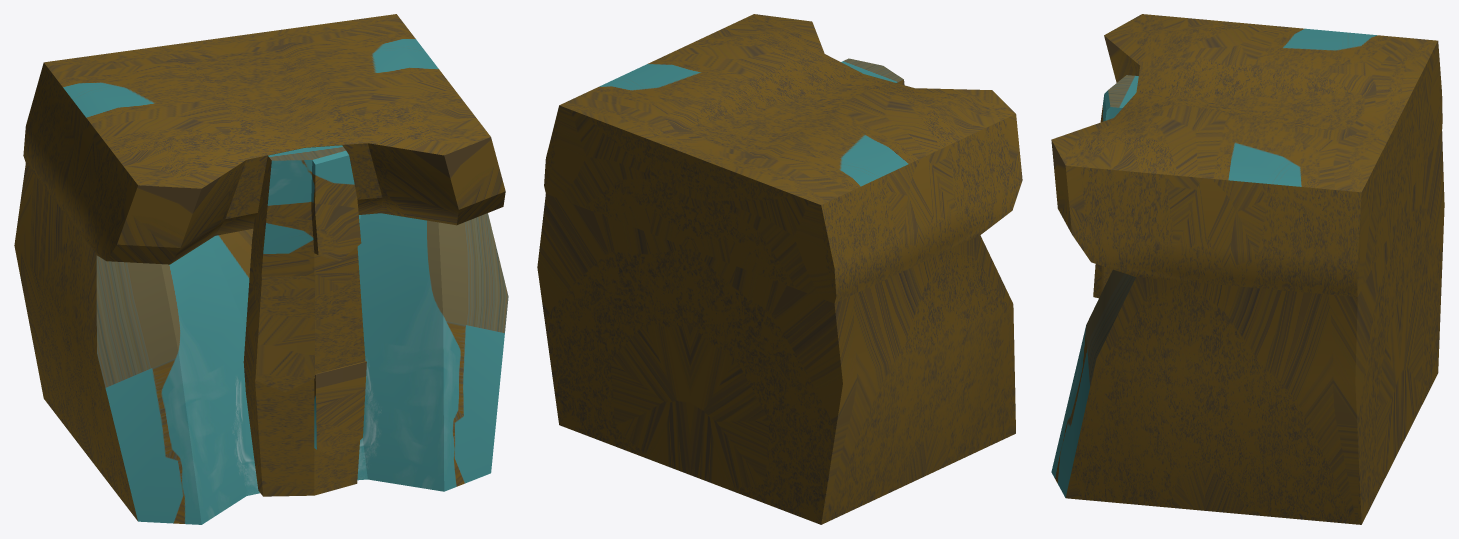
The model's file is cachoeira.fbx.
3 views of the same model, side by side, from view 1: azimuth 30°, elevation 25°; view 2: azimuth 150°, elevation 25°; view 3: azimuth 270°, elevation 25° (orthographic). The views are drawn at different scales.
Visible parts, largest first — view 1: BASE CACHOEIRA, Cube; view 2: BASE CACHOEIRA, Cube; view 3: BASE CACHOEIRA, Cube.
Boxes of the visible parts, box(x1,y1,x2,y2) form: BASE CACHOEIRA: box(14, 14, 508, 524); Cube: box(243, 145, 366, 496); BASE CACHOEIRA: box(537, 14, 1022, 524); Cube: box(841, 58, 904, 85); BASE CACHOEIRA: box(1051, 14, 1444, 524); Cube: box(1093, 75, 1138, 298).
Size of the model in its own units: 4776 by 3878 by 3964.
